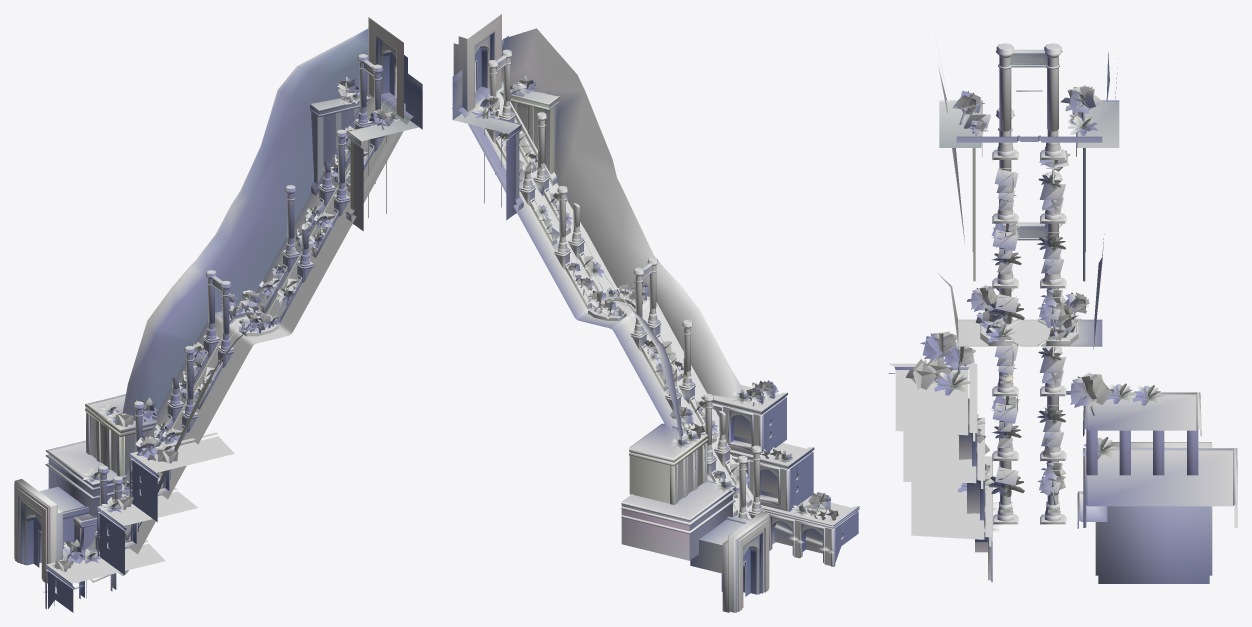
File: 02Slope.gltf
The picture shows the model from 3 angles, left to right: view 1: azimuth 30°, elevation 25°; view 2: azimuth 150°, elevation 25°; view 3: azimuth 270°, elevation 25°; orthographic projection. The views are drawn at different scales.
Visible parts, largest first — view 1: stg010_o03_Mesh_0002, stg010_o03_Mesh_0012, stg010_o03_Mesh_0009, stg010_o03_Mesh_0007, stg010_o03_Mesh_0017, stg010_o05_Mesh_0003, stg010_o03_Mesh_0013, stg010_o03_Mesh_0001, stg010_o21_Mesh_0003, stg010_p03_Mesh_0001, stg010_p03_Mesh_0002, stg010_o21_Mesh_0001 (+5 smaller); view 2: stg010_o03_Mesh_0002, stg010_o03_Mesh_0009, stg010_o03_Mesh_0017, stg010_o03_Mesh_0012, stg010_o05_Mesh_0003, stg010_o03_Mesh_0007, stg010_o03_Mesh_0001, stg010_o21_Mesh_0003, stg010_o03_Mesh_0013, stg010_p03_Mesh_0001, stg010_o03_Mesh_0011, stg010_p03_Mesh_0002 (+6 smaller); view 3: stg010_o03_Mesh_0007, stg010_o03_Mesh_0009, stg010_p03_Mesh_0002, stg010_p03_Mesh_0001, stg010_p03_Mesh_0000, stg010_o21_Mesh_0003, stg010_o03_Mesh_0013, stg010_o03_Mesh_0001, stg010_o03_Mesh_0012, stg010_o05_Mesh_0003, stg010_o21_Mesh_0001, stg010_o03_Mesh_0011 (+3 smaller).
Part boxes in pixels (left/top/right/bottom): stg010_o03_Mesh_0002: left=122, top=28, right=368, bottom=530; stg010_o03_Mesh_0012: left=39, top=88, right=413, bottom=574; stg010_o03_Mesh_0009: left=14, top=17, right=422, bottom=609; stg010_o03_Mesh_0007: left=50, top=96, right=418, bottom=582; stg010_o03_Mesh_0017: left=33, top=52, right=422, bottom=612; stg010_o05_Mesh_0003: left=16, top=39, right=396, bottom=566; stg010_o03_Mesh_0013: left=95, top=54, right=384, bottom=551; stg010_o03_Mesh_0001: left=24, top=49, right=422, bottom=592; stg010_o21_Mesh_0003: left=14, top=19, right=402, bottom=585; stg010_p03_Mesh_0001: left=63, top=76, right=389, bottom=561; stg010_p03_Mesh_0002: left=54, top=114, right=390, bottom=571; stg010_o21_Mesh_0001: left=15, top=23, right=401, bottom=597; stg010_o03_Mesh_0002: left=501, top=28, right=745, bottom=438; stg010_o03_Mesh_0009: left=452, top=14, right=859, bottom=612; stg010_o03_Mesh_0017: left=452, top=36, right=858, bottom=596; stg010_o03_Mesh_0012: left=452, top=81, right=753, bottom=545; stg010_o05_Mesh_0003: left=475, top=35, right=822, bottom=612; stg010_o03_Mesh_0007: left=453, top=90, right=851, bottom=522; stg010_o03_Mesh_0001: left=452, top=40, right=842, bottom=555; stg010_o21_Mesh_0003: left=468, top=16, right=858, bottom=611; stg010_o03_Mesh_0013: left=486, top=49, right=760, bottom=518; stg010_p03_Mesh_0001: left=480, top=76, right=830, bottom=514; stg010_o03_Mesh_0011: left=496, top=58, right=830, bottom=565; stg010_p03_Mesh_0002: left=510, top=83, right=838, bottom=521; stg010_o03_Mesh_0007: left=895, top=102, right=1233, bottom=539; stg010_o03_Mesh_0009: left=888, top=49, right=1237, bottom=583; stg010_p03_Mesh_0002: left=905, top=112, right=1114, bottom=493; stg010_p03_Mesh_0001: left=920, top=85, right=1106, bottom=505; stg010_p03_Mesh_0000: left=934, top=116, right=1163, bottom=497; stg010_o21_Mesh_0003: left=889, top=147, right=1078, bottom=537; stg010_o03_Mesh_0013: left=998, top=43, right=1060, bottom=495; stg010_o03_Mesh_0001: left=980, top=44, right=1078, bottom=524; stg010_o03_Mesh_0012: left=956, top=136, right=1102, bottom=346; stg010_o05_Mesh_0003: left=994, top=56, right=1212, bottom=521; stg010_o21_Mesh_0001: left=959, top=58, right=1058, bottom=552; stg010_o03_Mesh_0011: left=998, top=56, right=1060, bottom=516.
Bounding box in the file's own units: 155 × 197 × 76.67.
